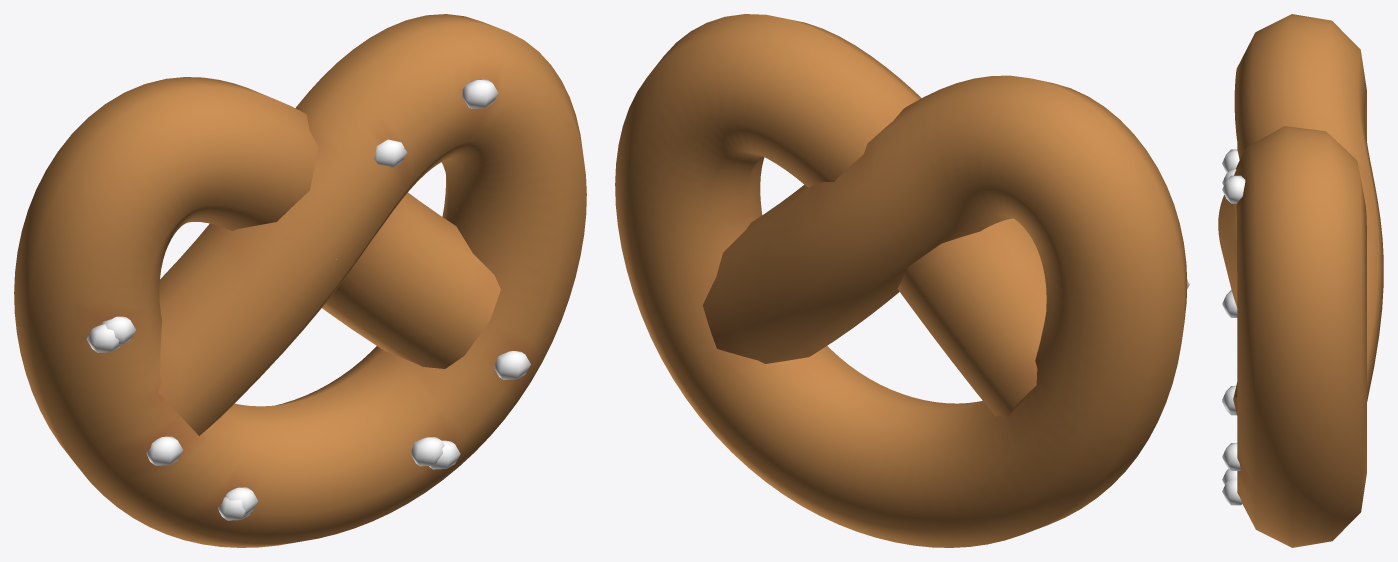
Rendered from pretzel.glb.
3 views of the same model, side by side, from view 1: azimuth 30°, elevation 25°; view 2: azimuth 150°, elevation 25°; view 3: azimuth 270°, elevation 25° (orthographic). The views are drawn at different scales.
Visible parts, largest first — view 1: dough, cffffff; view 2: dough; view 3: dough, cffffff.
Boxes of the visible parts, <box> form: dough: <box>14,14,586,547</box>; cffffff: <box>86,79,530,520</box>; dough: <box>615,14,1187,547</box>; dough: <box>1218,14,1383,547</box>; cffffff: <box>1222,149,1245,505</box>.
Bounding box in the file's own units: 1.23 × 1.02 × 0.3519.
